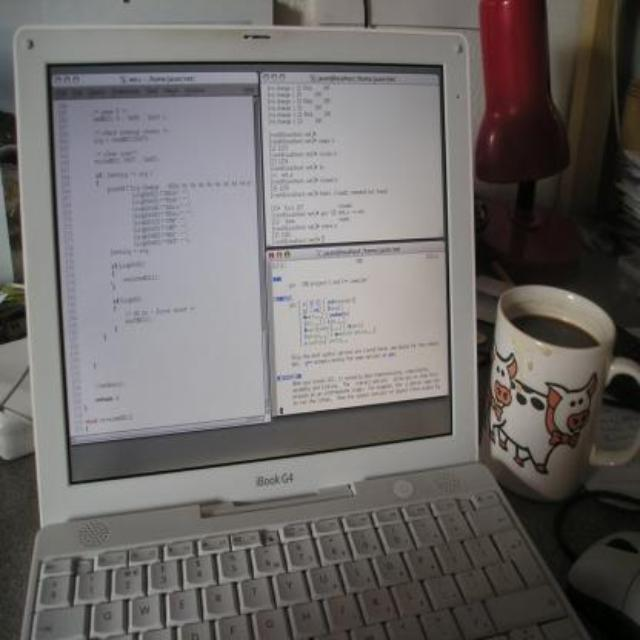Laptop: (3, 18, 561, 640)
